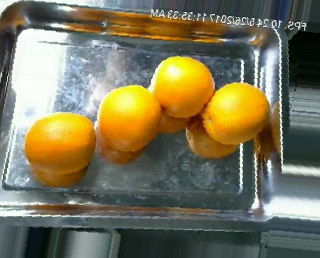Orange: (23, 110, 95, 174), (201, 81, 270, 145), (97, 84, 160, 151), (150, 54, 216, 117)
